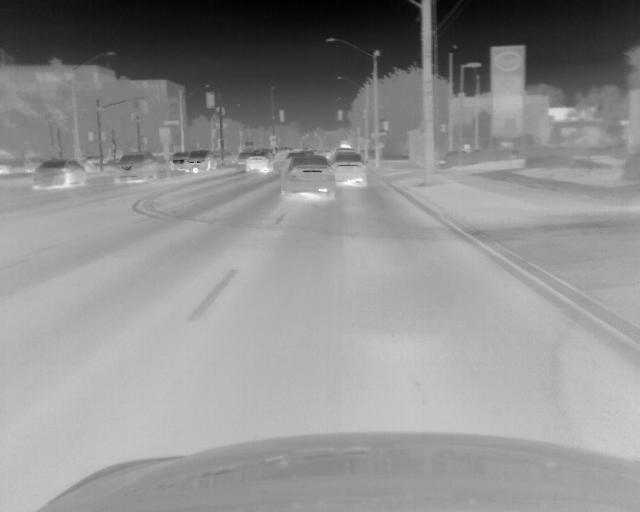car: (278, 152, 334, 203), (31, 159, 85, 189), (113, 151, 158, 185), (330, 150, 368, 187), (188, 150, 215, 175), (246, 151, 274, 173), (169, 151, 186, 170)
